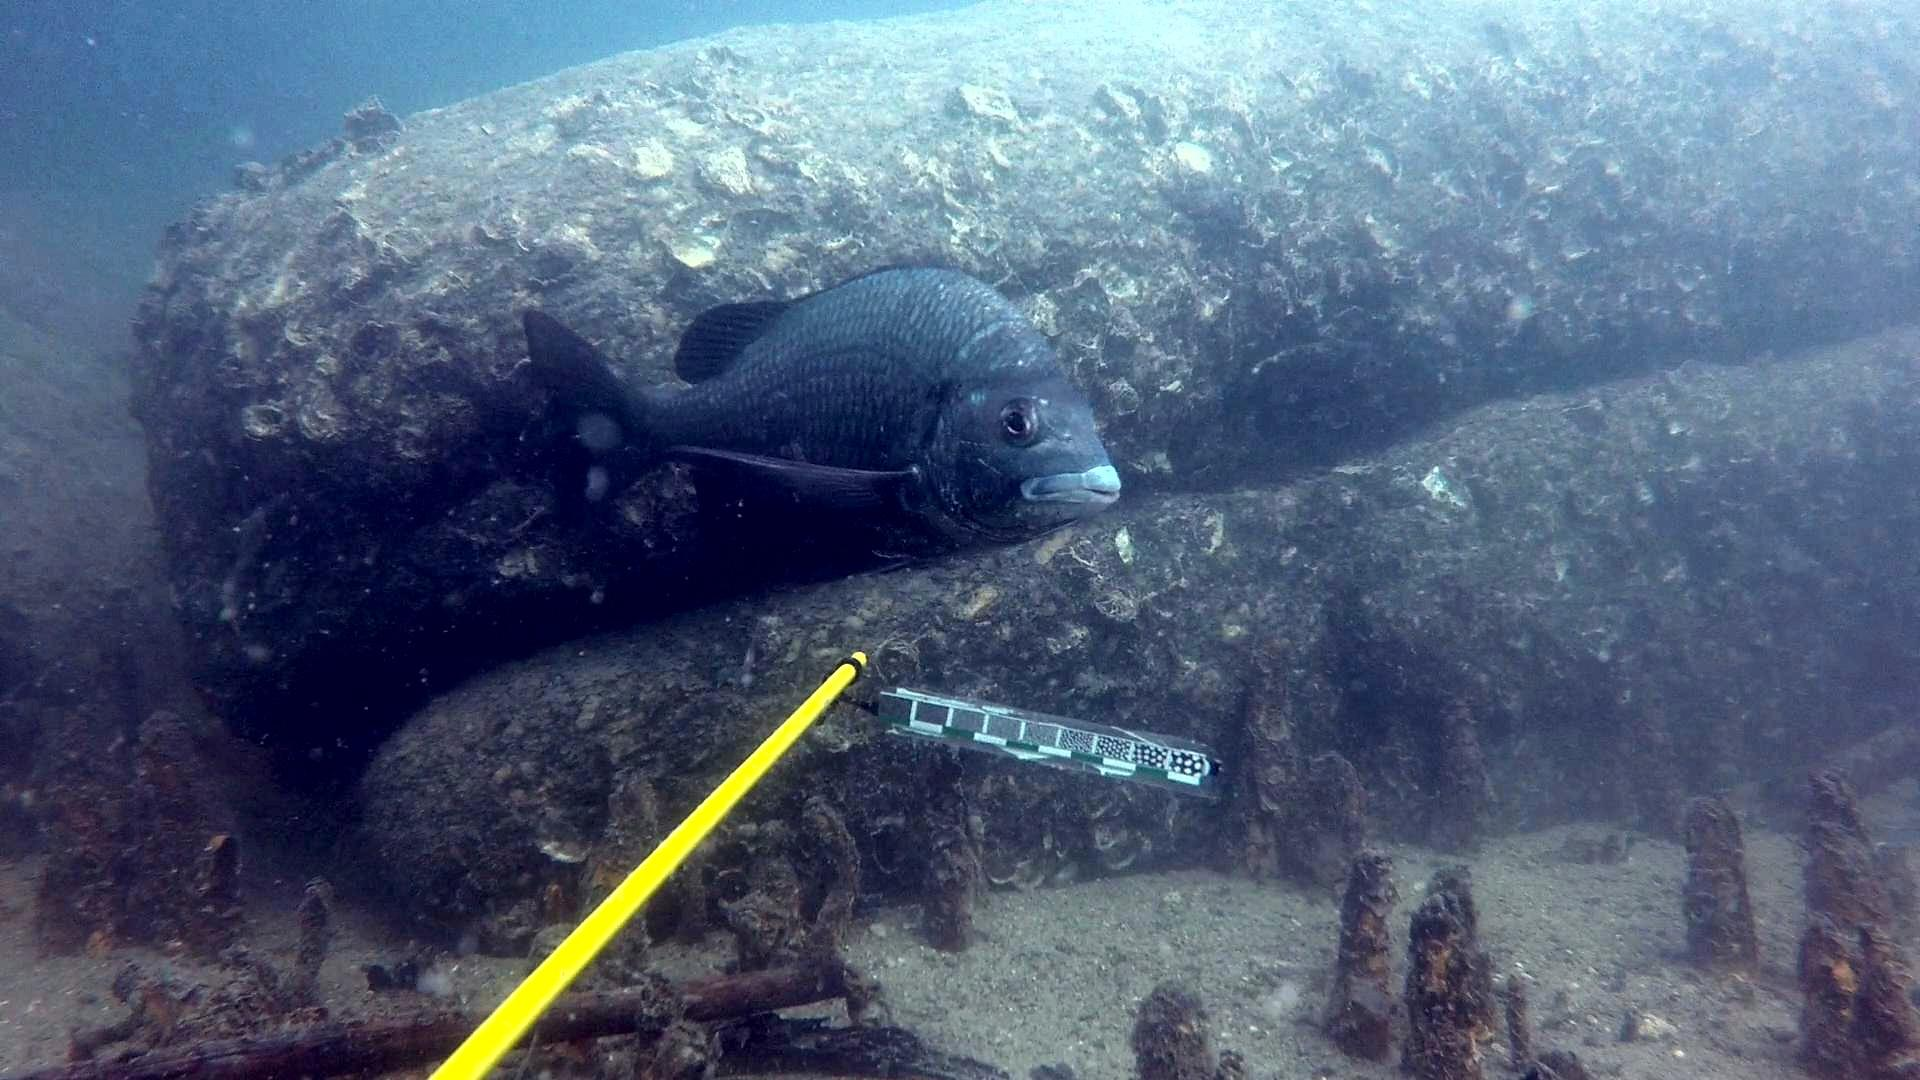acanthopagrus palmaris: (503, 260, 1145, 598)
